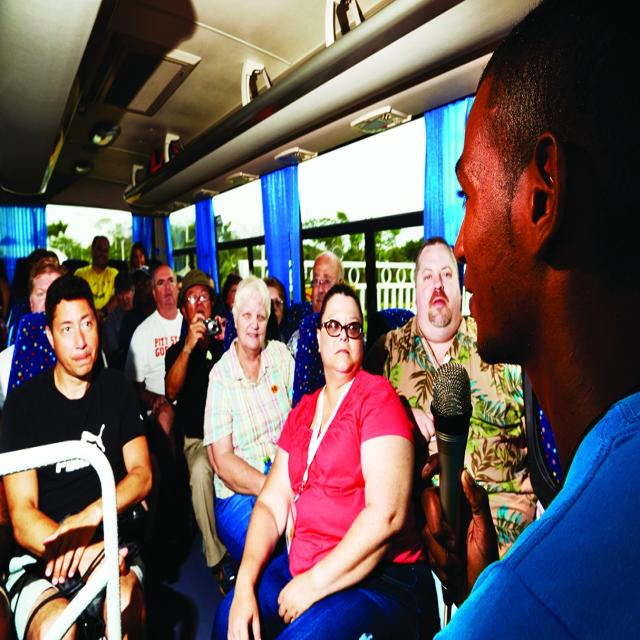body: (403, 0, 639, 639), (211, 279, 418, 639), (362, 234, 537, 565), (0, 272, 156, 640), (0, 247, 288, 356), (204, 272, 297, 578), (202, 272, 298, 564), (164, 268, 239, 598), (0, 253, 67, 408), (124, 262, 184, 403), (286, 249, 347, 358), (103, 271, 148, 374), (73, 235, 119, 321), (129, 240, 149, 274)
